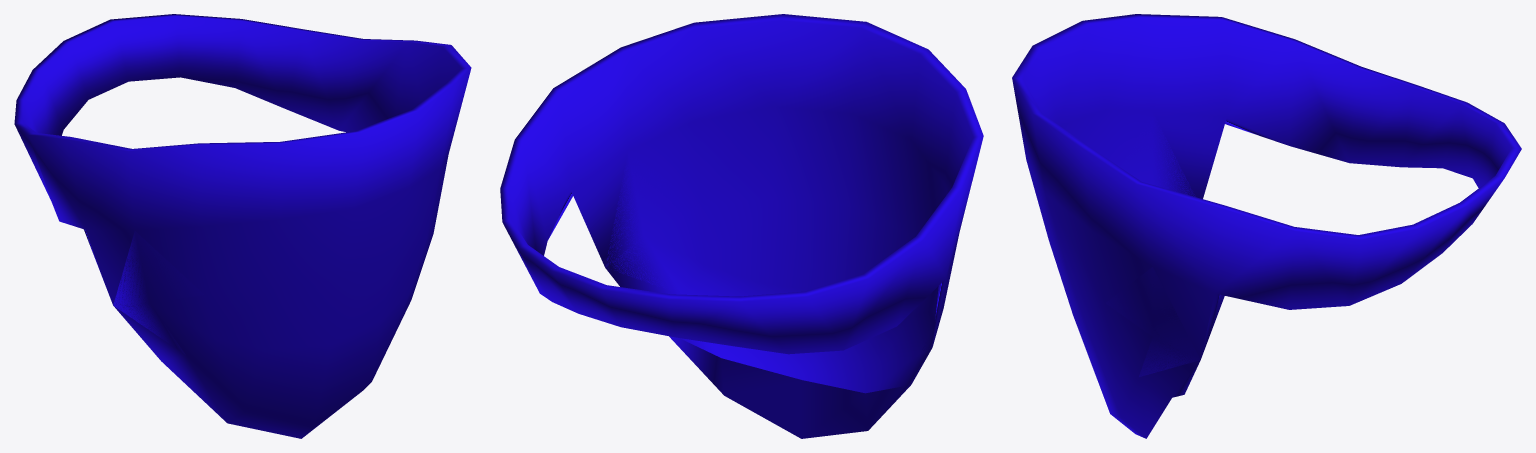
File: FaceBandana.fbx
3 views of the same model, side by side, from view 1: azimuth 30°, elevation 25°; view 2: azimuth 150°, elevation 25°; view 3: azimuth 270°, elevation 25° (orthographic). The views are drawn at different scales.
Parts seen in each view (by area): view 1: Face Bandana; view 2: Face Bandana; view 3: Face Bandana.
Part boxes in pixels (left/top/right/bottom): Face Bandana: left=14, top=14, right=471, bottom=438; Face Bandana: left=500, top=14, right=983, bottom=438; Face Bandana: left=1012, top=14, right=1521, bottom=438.
Size of the model in its own units: 53.61 by 46.35 by 60.16.
